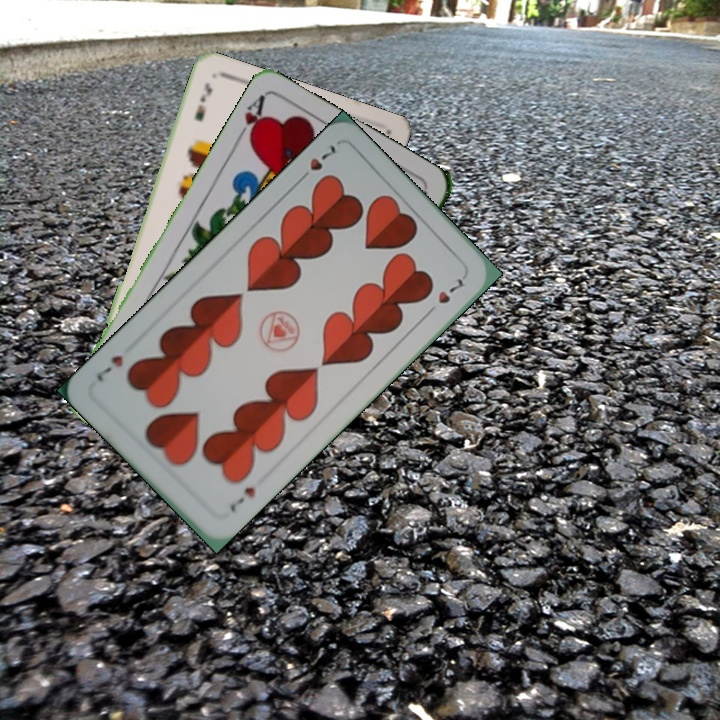E7: (191, 78, 215, 124)
H7: (293, 140, 339, 186), (224, 483, 258, 515)
HA: (231, 91, 269, 149)
